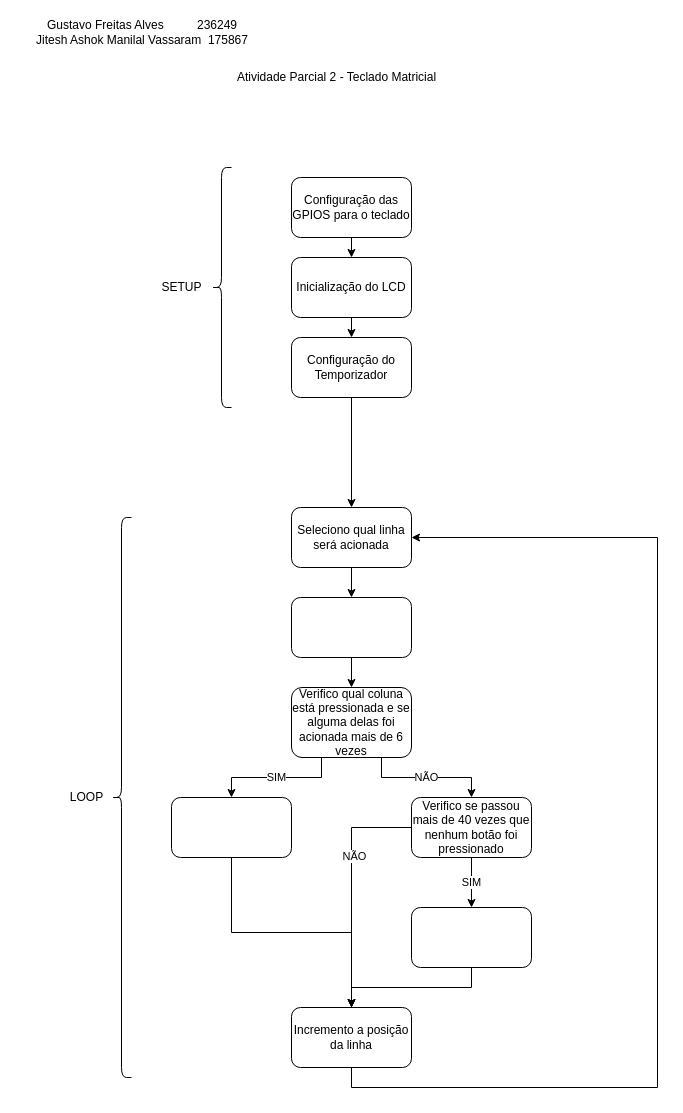
The diagram is 683 pixels wide and 1113 high, and some of its shapes have lost their labels. Each missing label, with the box of its shape:
Identifico o respectivo caracter daquela linha e coluna: (170, 796, 292, 858)
Leio as colunas daquela linha e contabilizo que está ocorrendo uma leitura: (290, 596, 412, 658)
Registro que nenhum botão foi pressionado: (410, 906, 532, 968)
